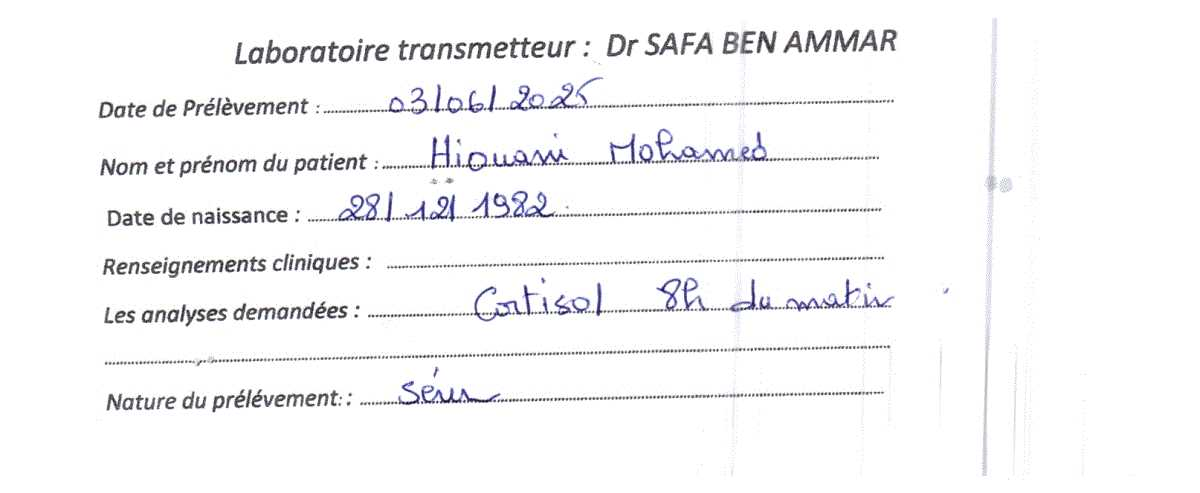zone_analyses: (59, 277, 918, 355)
zone_patient: (90, 67, 631, 131)
zone_prescripteur: (91, 135, 915, 243)
